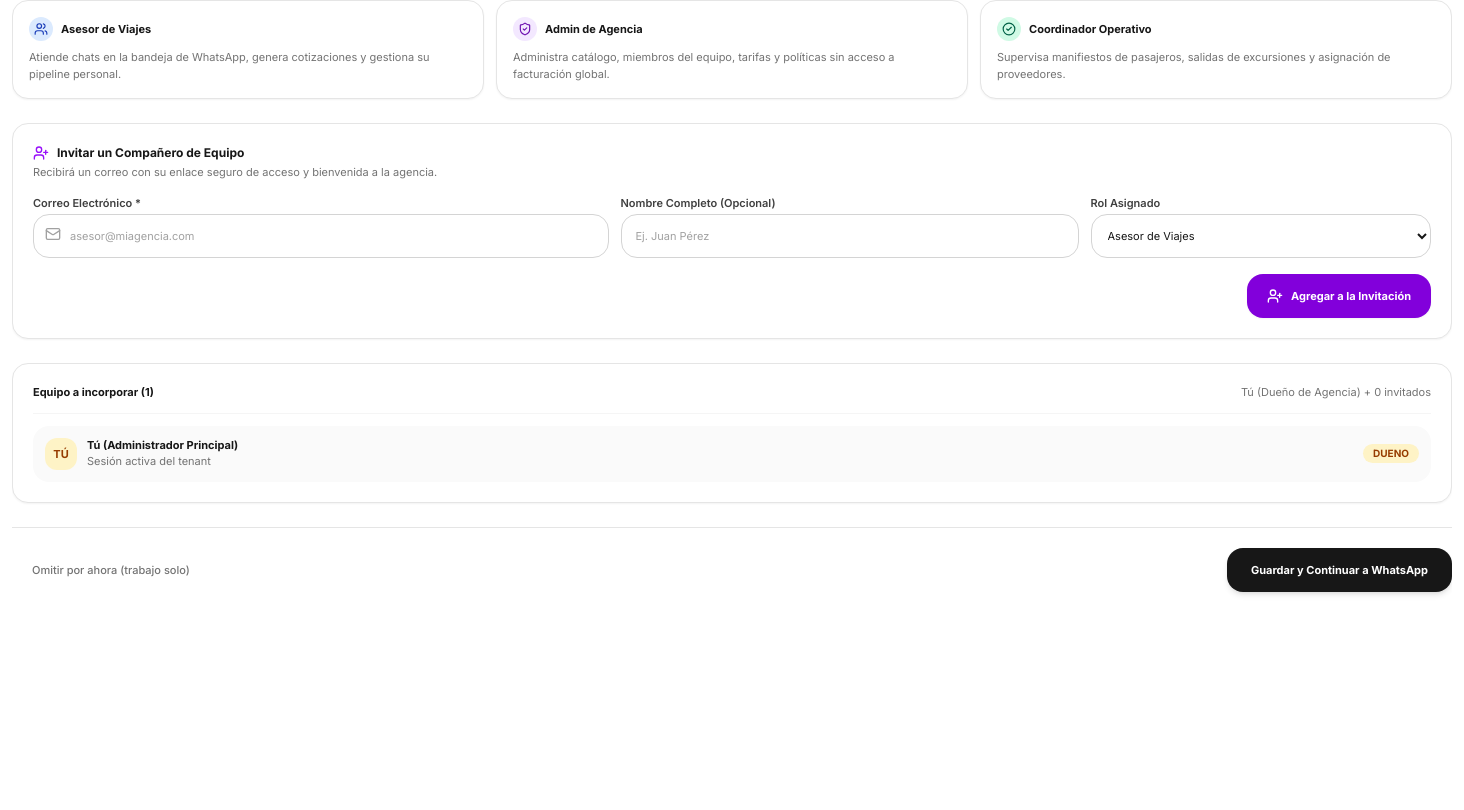
Test: PasoEquipo — Invitación de Asesores y Roles (T-105) › 3. Agrega y elimina un miembro de la lista
Type "carlos@agencia.com" into the field with placeholder "asesor@miagencia.com" at (321, 236), box [33,214,608,258]
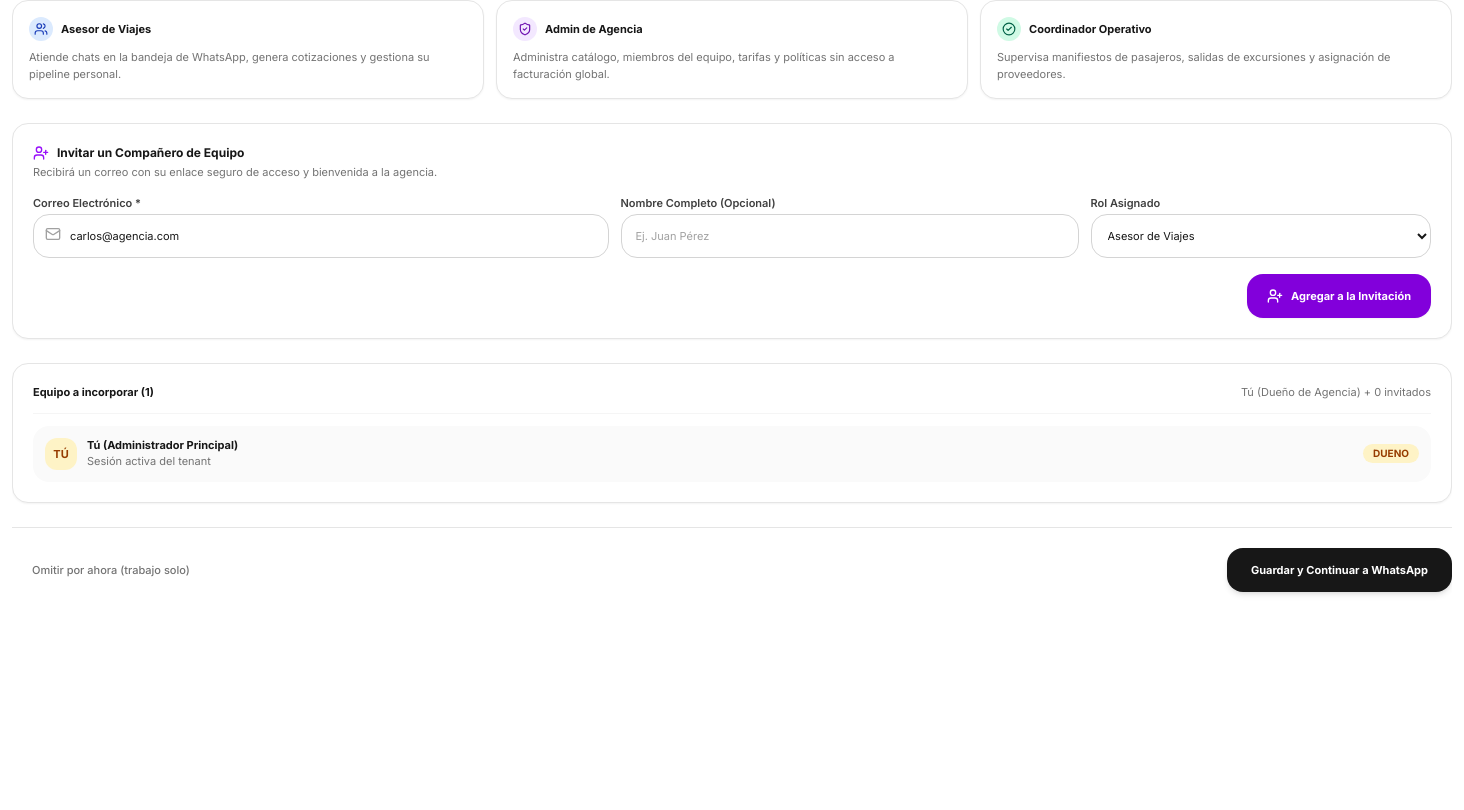
Type "Carlos Mendoza" into the field with placeholder "Ej. Juan Pérez" at (850, 236), box [620,214,1078,258]
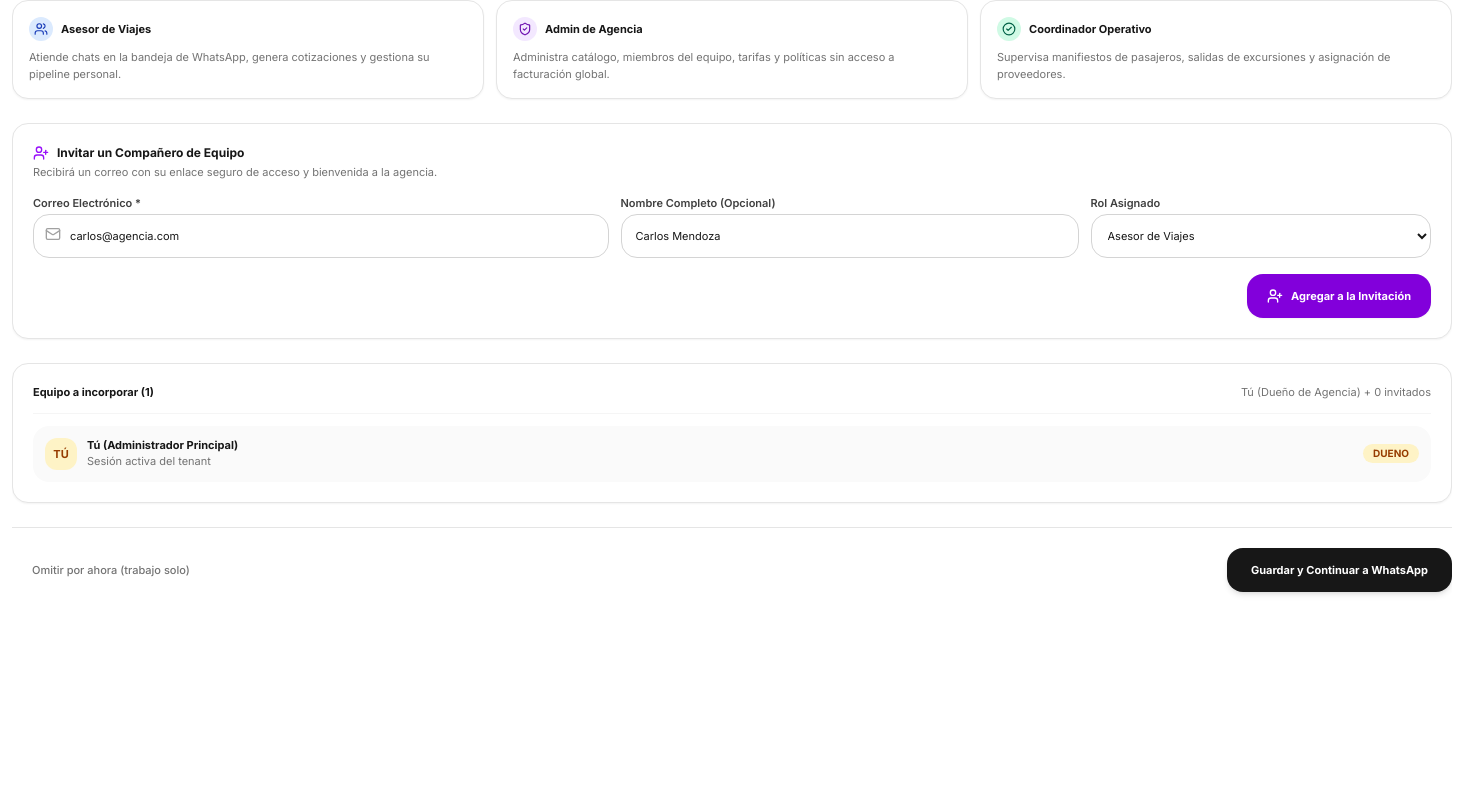
Click the button with test id "btn-agregar-miembro-onboarding" at (1339, 296), box [1247,274,1431,318]
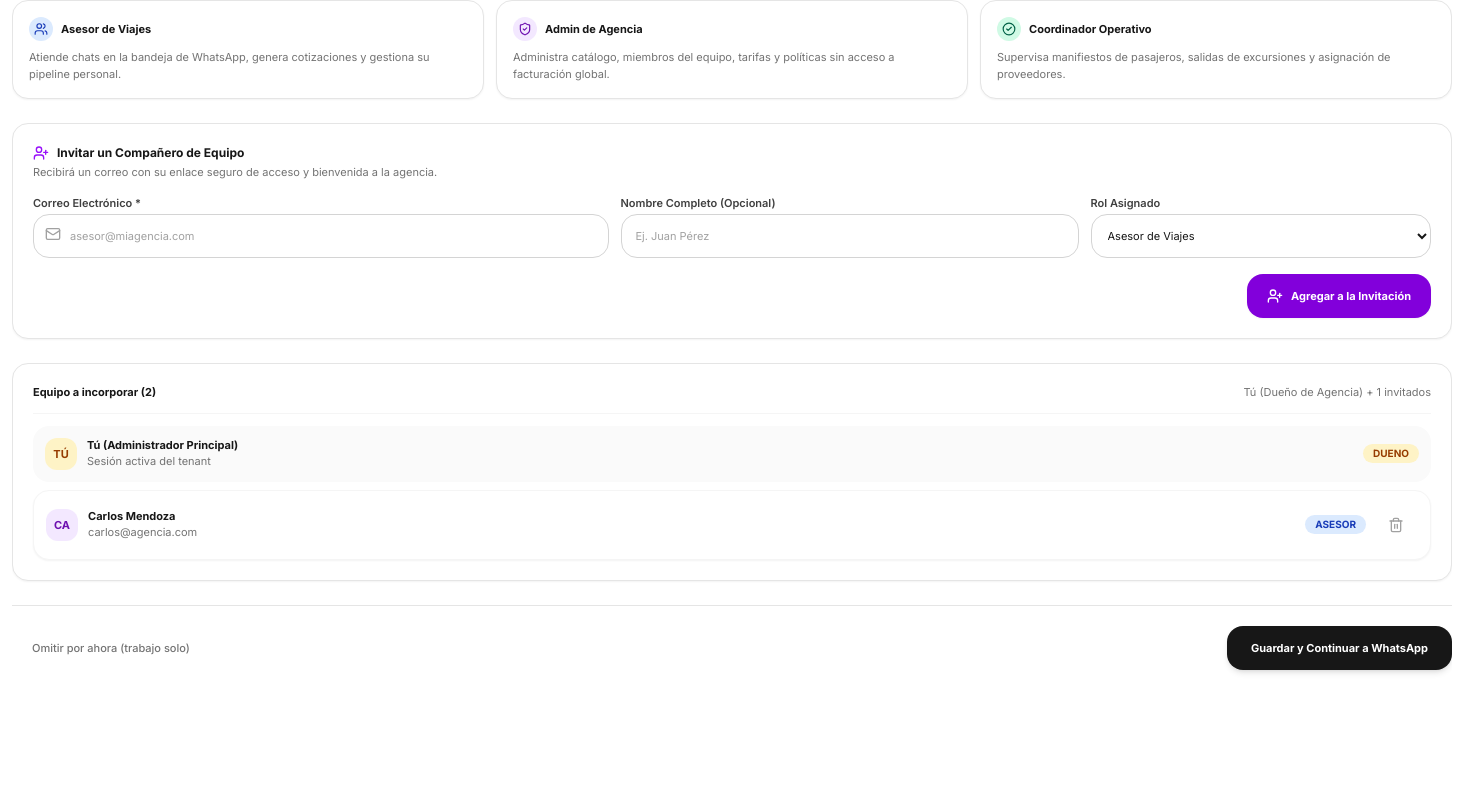
Result: the text "Carlos Mendoza" is shown at [88,509,176,523]
Result: the text "carlos@agencia.com" is shown at [88,524,197,540]
Click the button named "Eliminar a carlos@agencia.com" at (1396, 525), box [1374,503,1418,547]
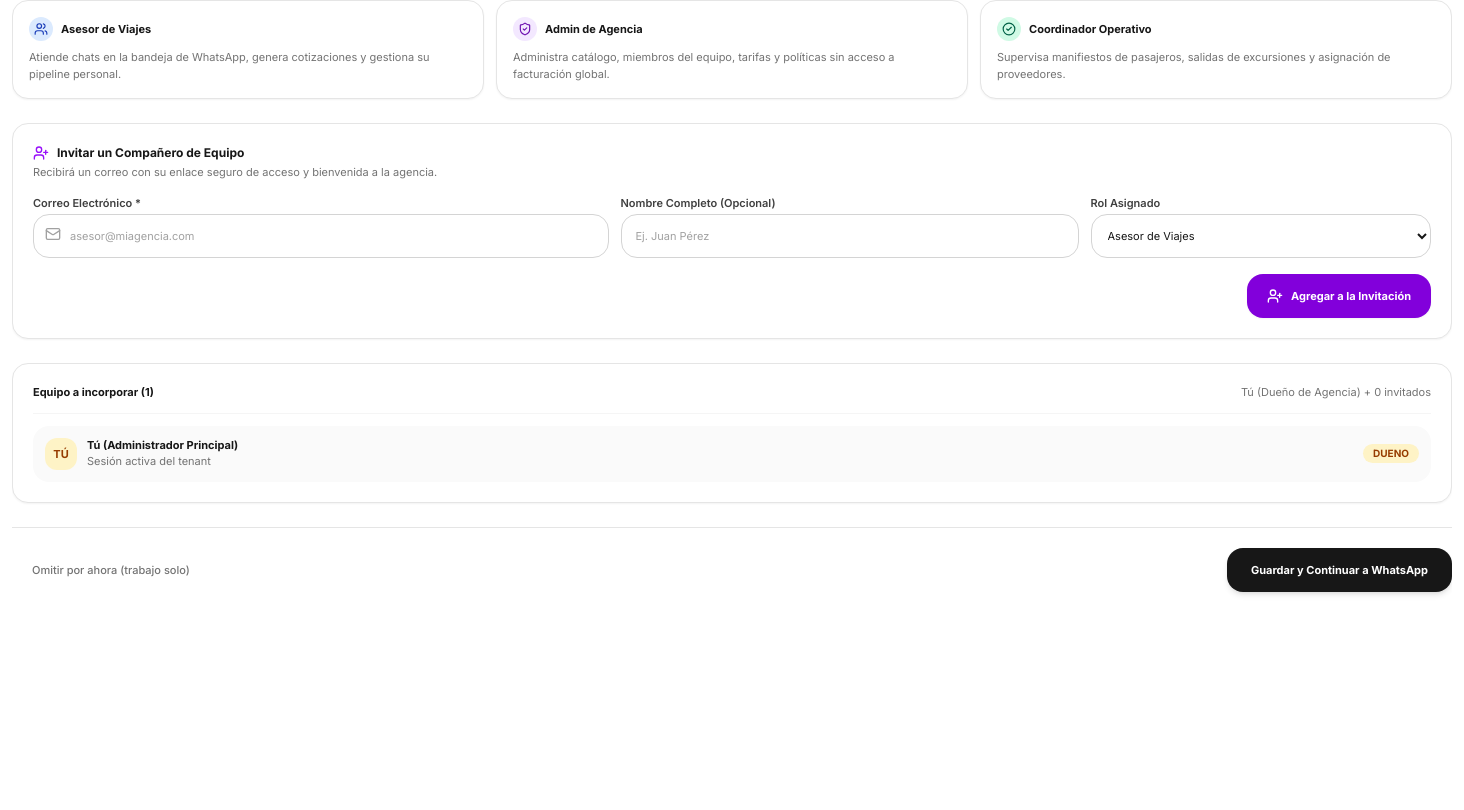
Result: the text "Carlos Mendoza" is gone
